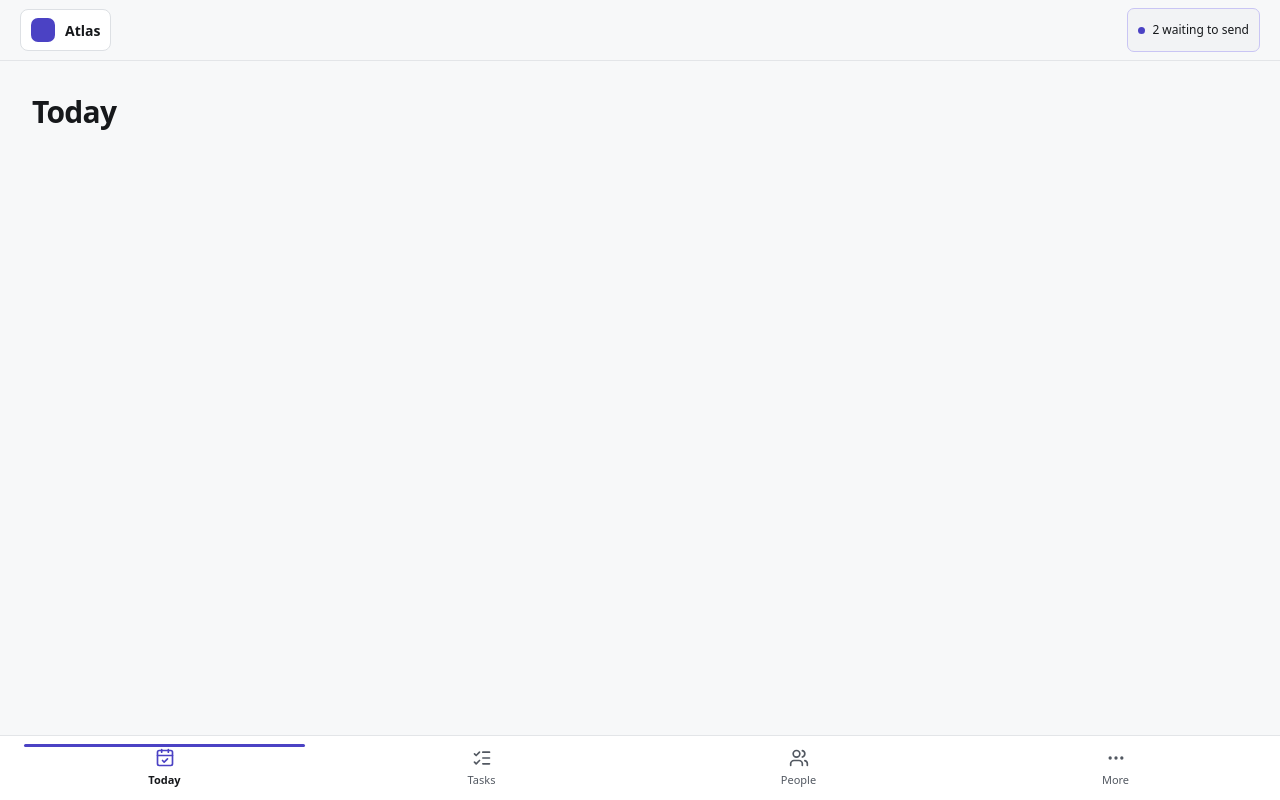
Scenario: More sheet (mobile) › opens a dialog listing Sharing, Settings and the offline queue, and Escape closes it
Expected: the element showing "Today" is shown, top-left (32, 91), bottom-right (116, 132)
Click the button "More": {"x": 1116, "y": 768} top-left (959, 744), bottom-right (1272, 792)
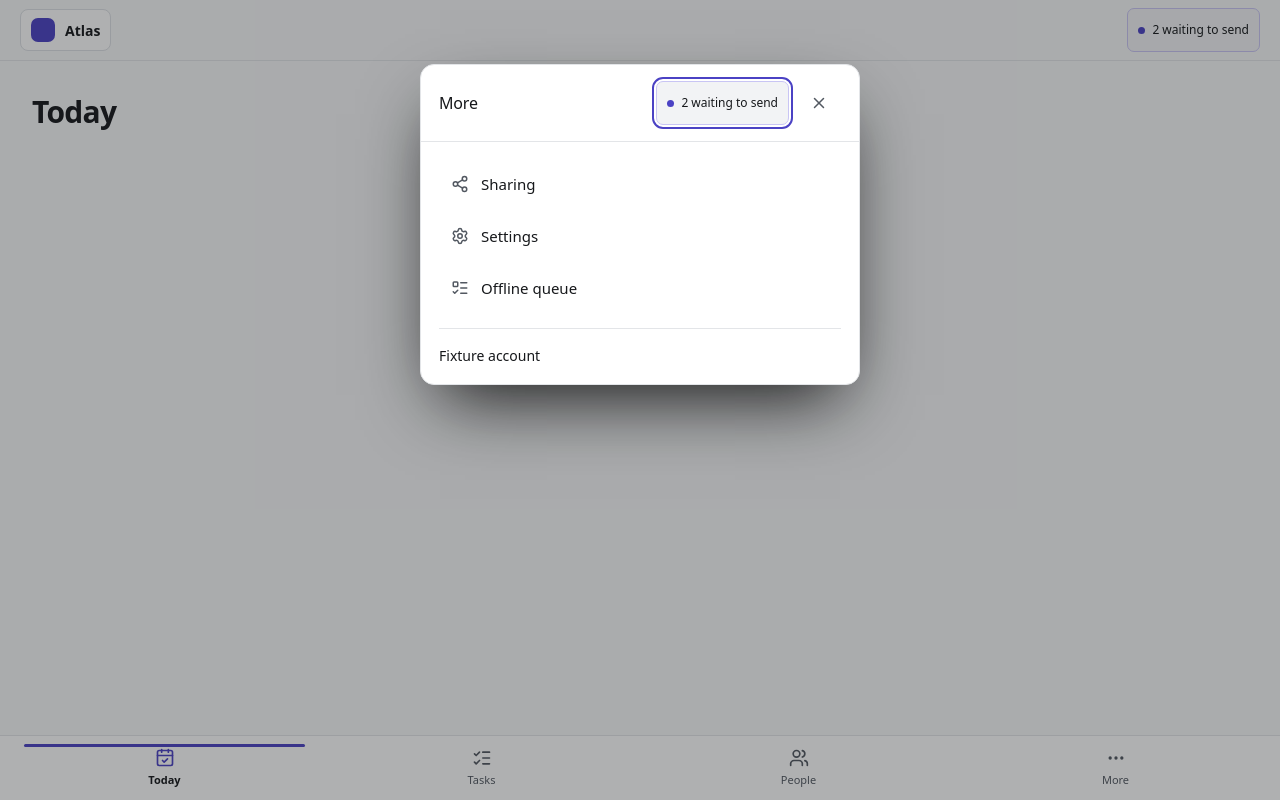
Result: the link "Sharing" is shown at top-left (451, 174), bottom-right (536, 194)
Result: the link "Settings" is shown at top-left (451, 226), bottom-right (538, 246)
Result: the text "Fixture account" is shown at top-left (439, 346), bottom-right (540, 365)
Click the button "Offline queue": {"x": 529, "y": 288} top-left (439, 264), bottom-right (841, 312)
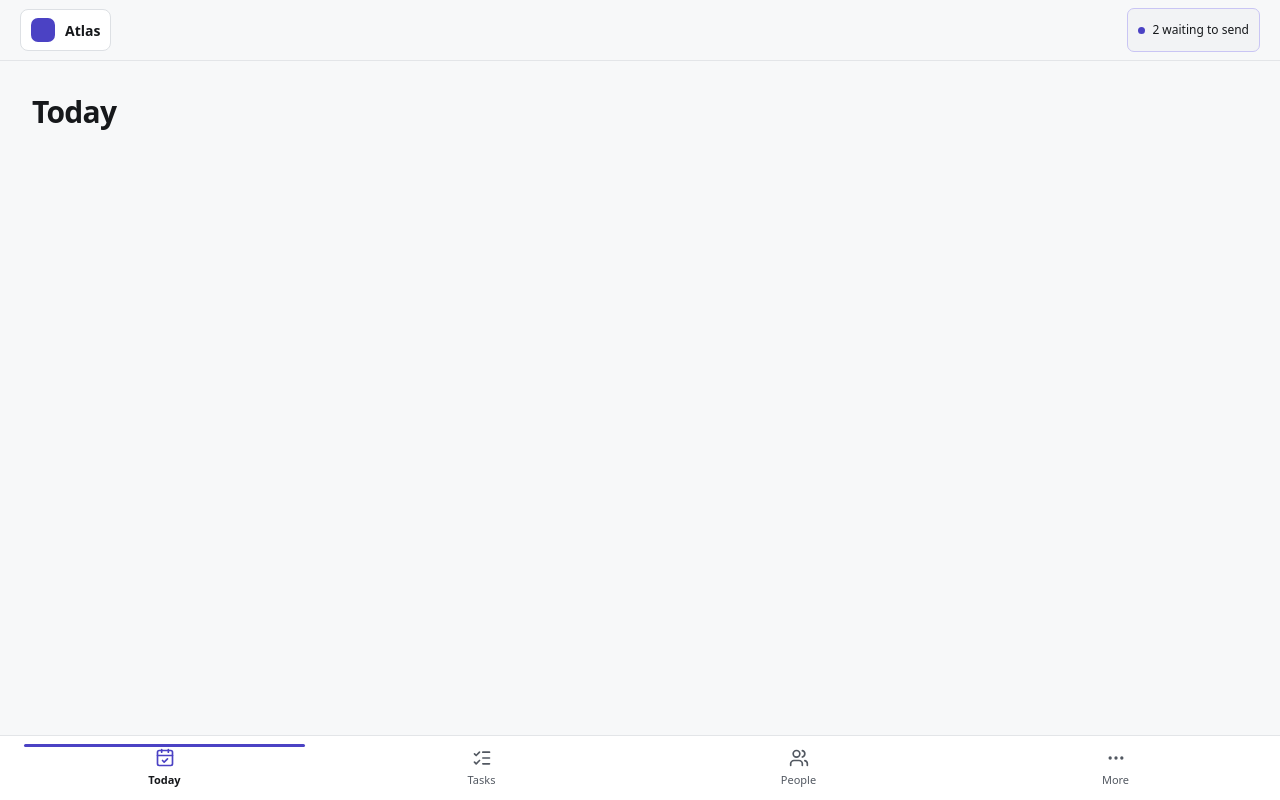
Result: the dialog is gone
